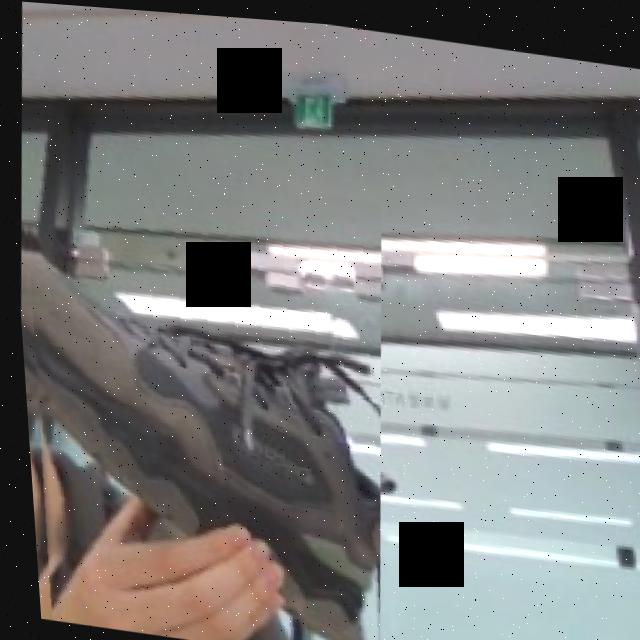shoe: (7, 138, 404, 640)
